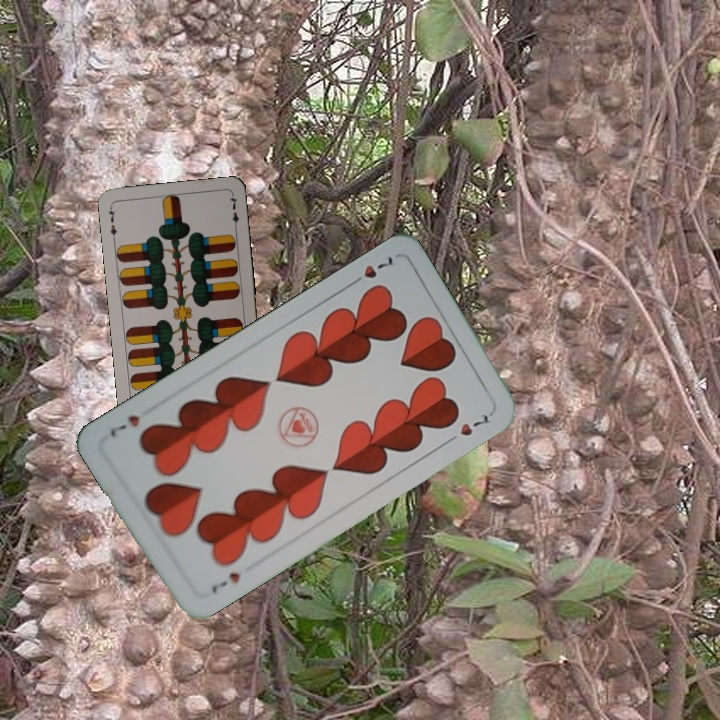E7: (104, 203, 119, 243)
H7: (345, 252, 396, 289), (207, 568, 243, 598)
